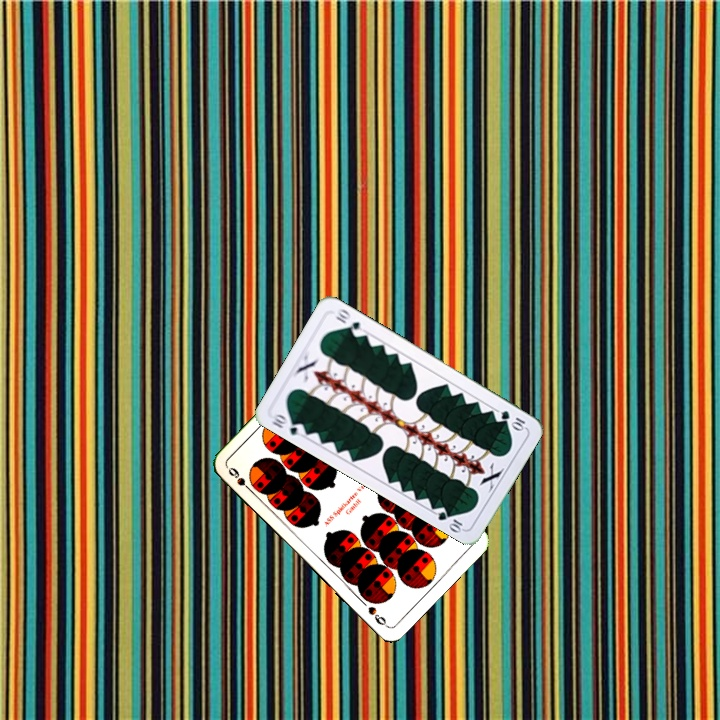G10: (267, 410, 308, 438), (497, 406, 529, 433)
S9: (224, 463, 256, 496)
